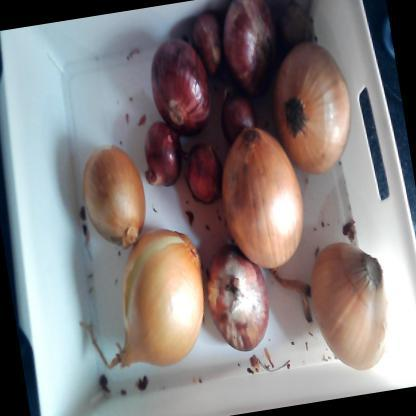onion: (208, 116, 316, 280), (108, 225, 216, 383), (262, 29, 364, 183), (304, 227, 404, 382), (73, 136, 161, 260), (141, 28, 218, 142), (215, 0, 289, 102)
